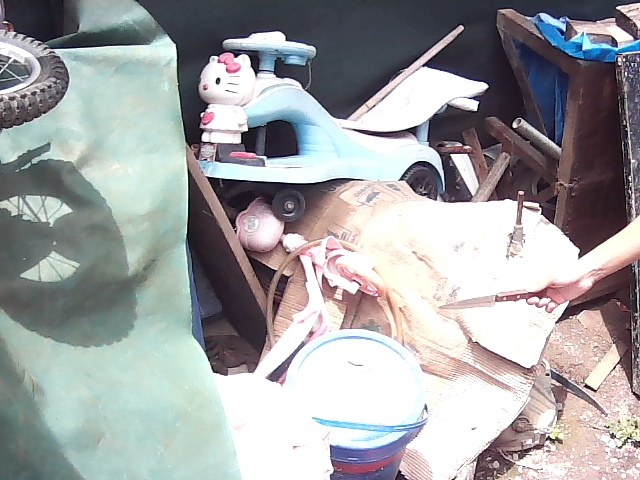cuchillo: (433, 283, 529, 320)
